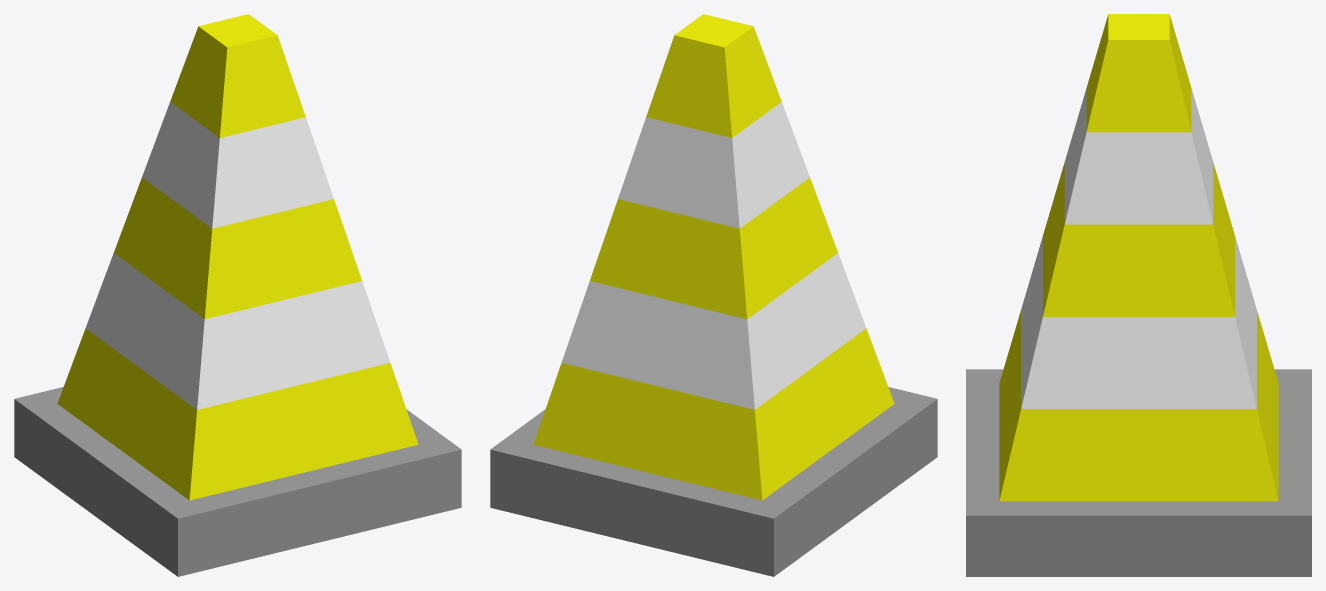
The model's file is SM_ConstructSign_03.FBX.
3 renders of one model, left to right at view 1: azimuth 30°, elevation 25°; view 2: azimuth 150°, elevation 25°; view 3: azimuth 270°, elevation 25°, orthographic. The views are drawn at different scales.
Visible parts, largest first — view 1: SM_ConstructSign_03; view 2: SM_ConstructSign_03; view 3: SM_ConstructSign_03.
Boxes of the visible parts, x1=… form: SM_ConstructSign_03: x1=14, y1=14, x2=461, y2=576; SM_ConstructSign_03: x1=490, y1=14, x2=937, y2=576; SM_ConstructSign_03: x1=966, y1=14, x2=1311, y2=576.
Size of the model in its own units: 0.25 by 0.3803 by 0.25.
Materials: 1 (1 with a texture image).
